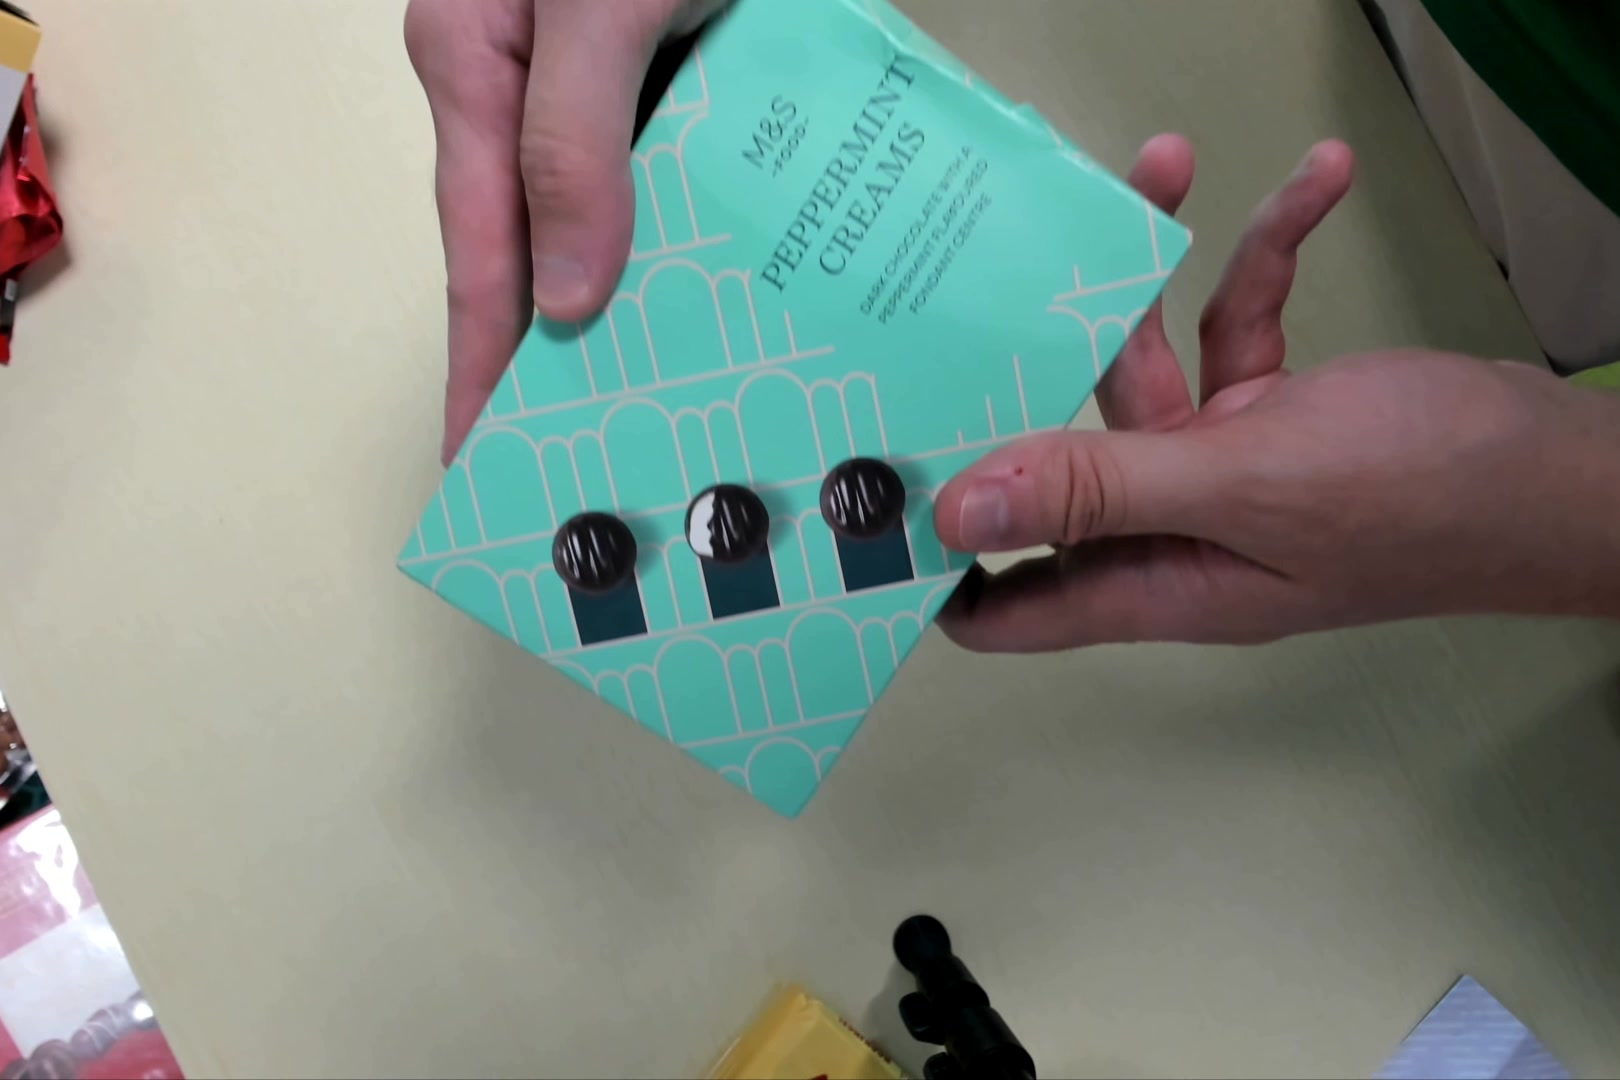SweetsChocolatesOthers_100-199g_NonHalal_NonHealthy: (395, 6, 1195, 818)
